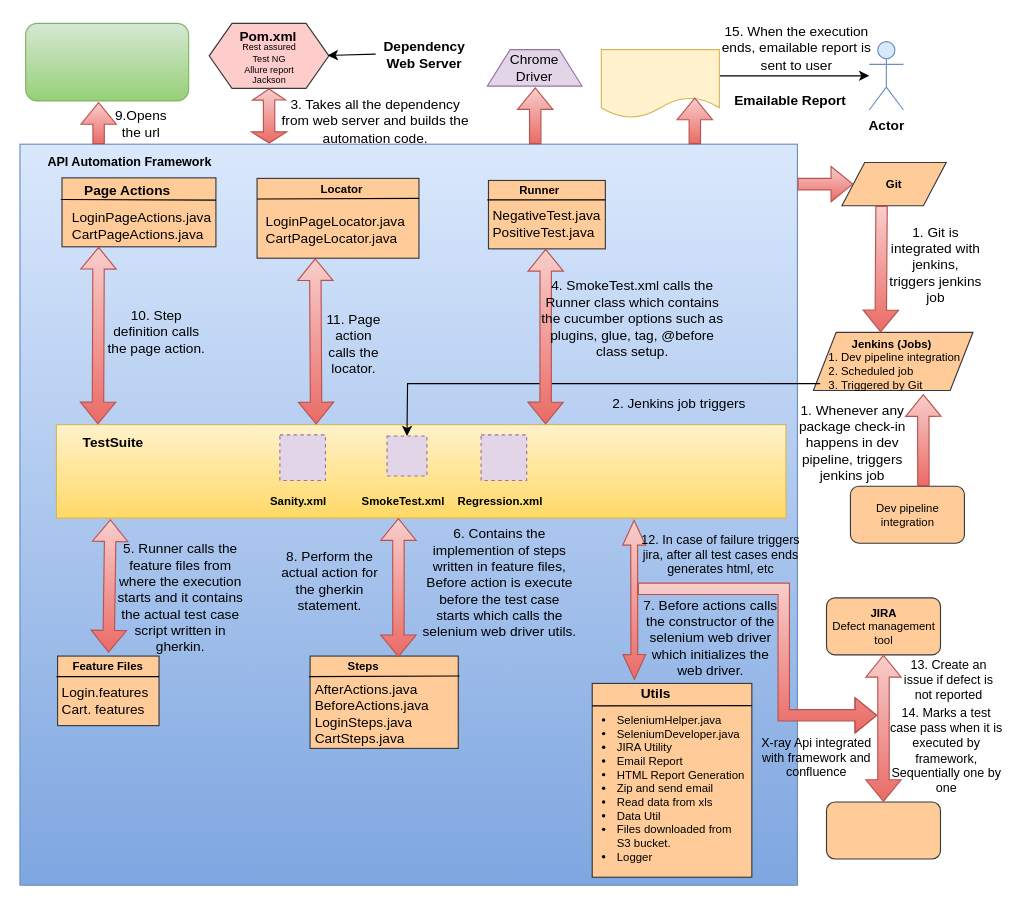
Some shapes in this 1027 by 905 pixel diagram are drawn without their labels. Each missing label, with the centre of its shape:
"ECommerce Application under test (AUT)" goes at point (107, 61).
"Jira Confluence Test Management tool" goes at point (882, 830).
"Reports Smoketest.html, Sanity.html" goes at point (659, 83).
